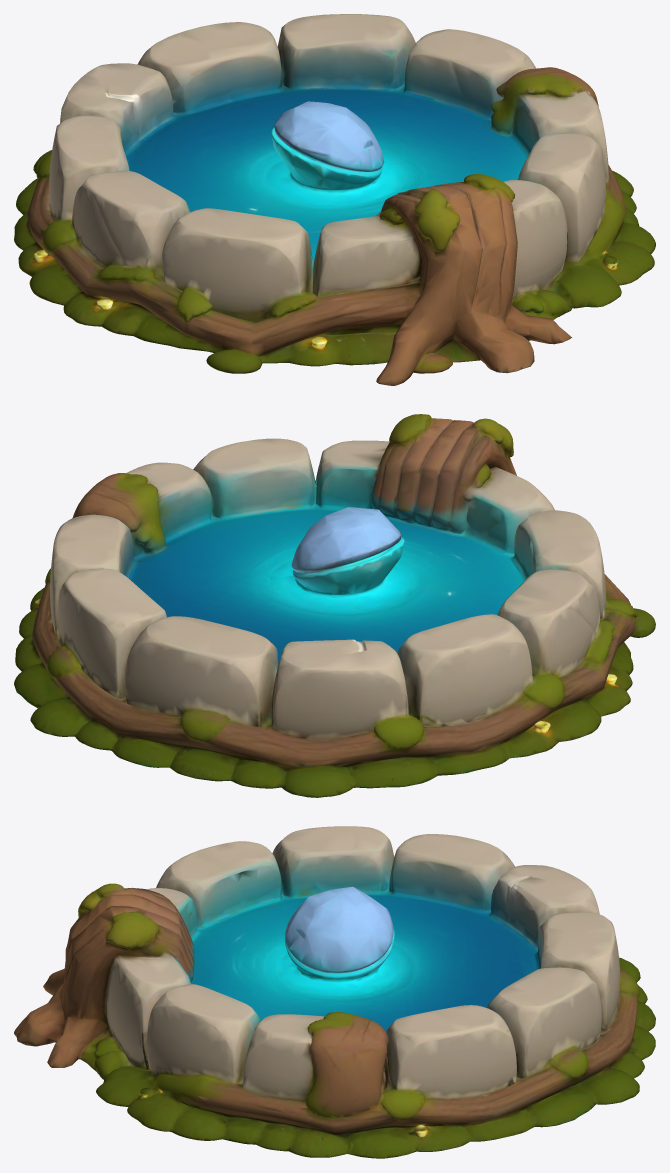
Rendered from moon-spring.glb.
3 views of the same model, one above another, from view 1: azimuth 30°, elevation 25°; view 2: azimuth 150°, elevation 25°; view 3: azimuth 270°, elevation 25° (orthographic). The views are drawn at different scales.
Visible parts, largest first — view 1: node_0; view 2: node_0; view 3: node_0.
Boxes of the visible parts, left/top/right/bottom form: node_0: left=14, top=14, right=655, bottom=385; node_0: left=14, top=414, right=655, bottom=797; node_0: left=14, top=826, right=655, bottom=1158.
Size of the model in its own units: 1.05 by 0.2632 by 1.12.
1 material, 1 textured.
